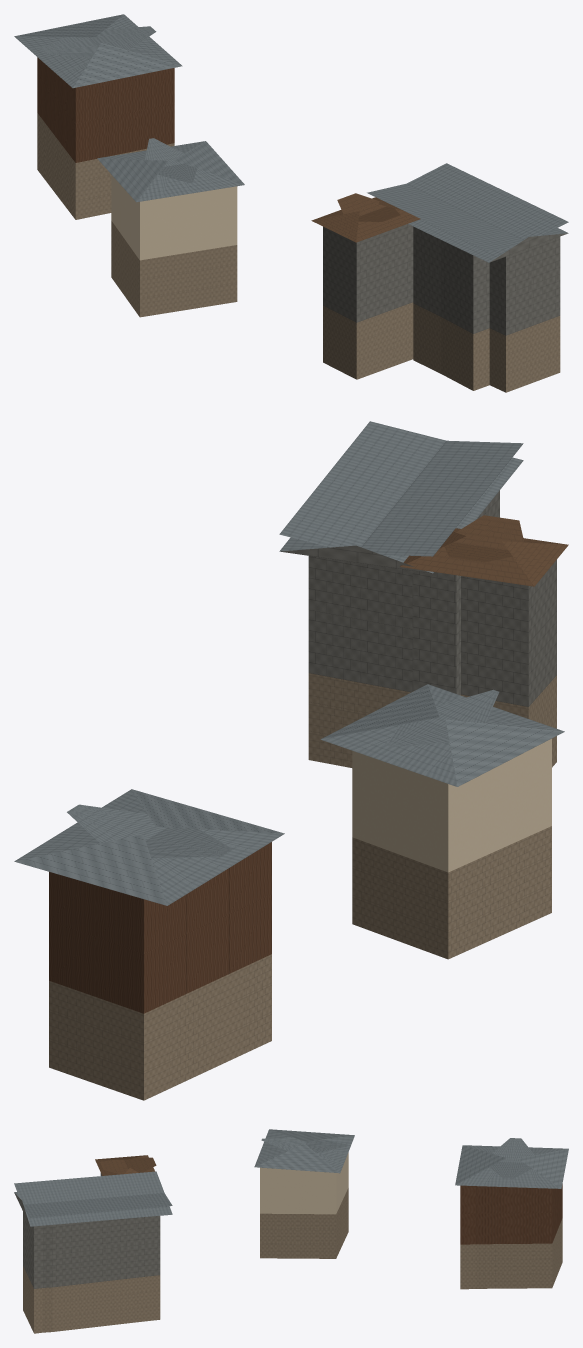
Rendered from bld_c36_-28_445.gltf.
3 views of the same model, one above another, from view 1: azimuth 30°, elevation 25°; view 2: azimuth 150°, elevation 25°; view 3: azimuth 270°, elevation 25° (orthographic). The views are drawn at different scales.
Visible parts, largest first — view 1: bld_c36_-28_445; view 2: bld_c36_-28_445; view 3: bld_c36_-28_445.
Part boxes in pixels (left/top/right/bottom): bld_c36_-28_445: left=14, top=14, right=568, bottom=392; bld_c36_-28_445: left=14, top=421, right=568, bottom=1100; bld_c36_-28_445: left=14, top=1129, right=568, bottom=1333.
Size of the model in its own units: 26.26 by 13.7 by 57.49.
Materials: 7 (7 with a texture image).
